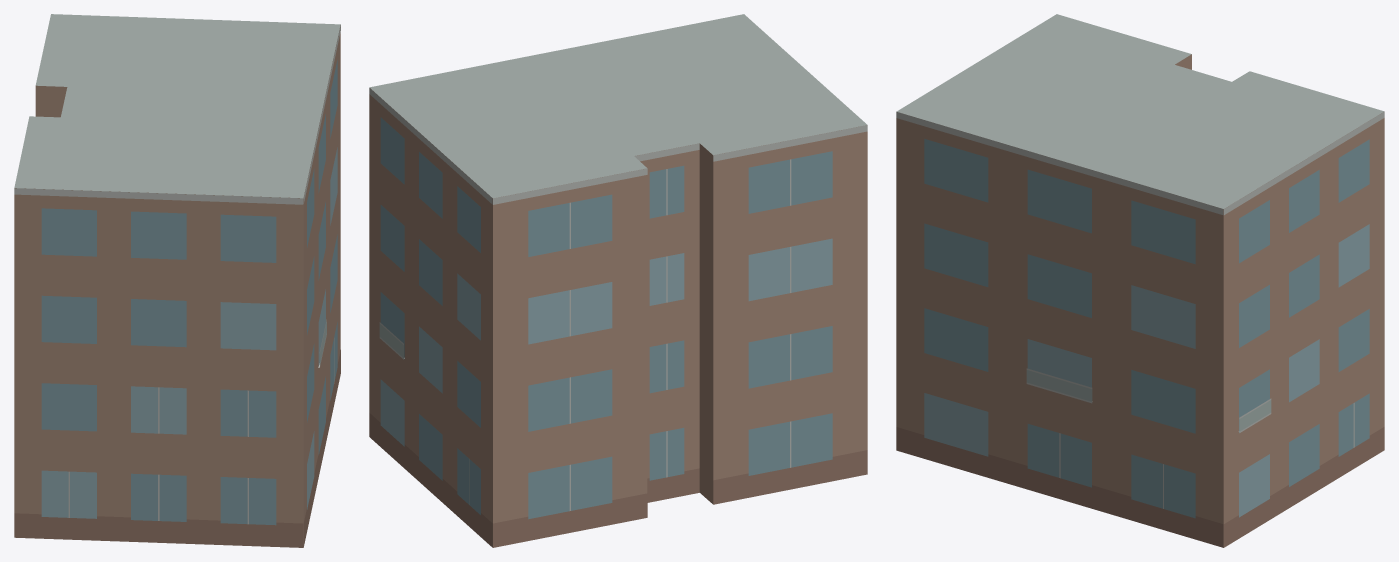
Rendered from survey-upis-32828558.glb.
3 renders of one model, left to right at view 1: azimuth 30°, elevation 25°; view 2: azimuth 150°, elevation 25°; view 3: azimuth 270°, elevation 25°, orthographic. The views are drawn at different scales.
Visible parts, largest first — view 1: survey-upis-32828558.tmp; view 2: survey-upis-32828558.tmp; view 3: survey-upis-32828558.tmp.
Boxes of the visible parts, x1=… form: survey-upis-32828558.tmp: x1=14, y1=14, x2=340, y2=547; survey-upis-32828558.tmp: x1=369, y1=14, x2=867, y2=547; survey-upis-32828558.tmp: x1=896, y1=14, x2=1384, y2=547.
Size of the model in its own units: 16.12 by 13.05 by 17.05.
